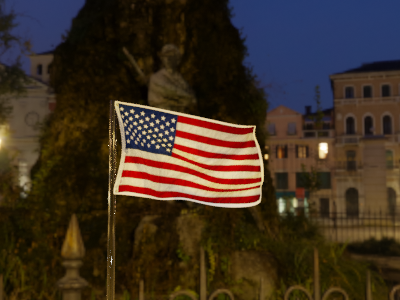America flag: (114, 99, 266, 209)
